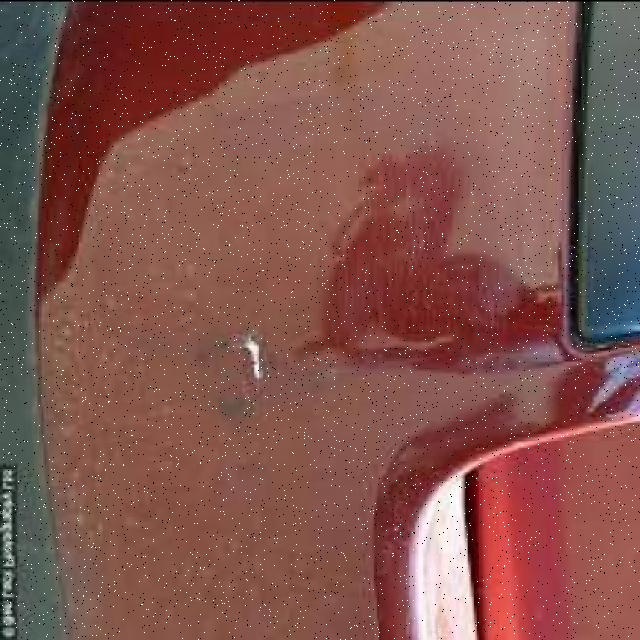damage: (213, 73, 551, 422)
